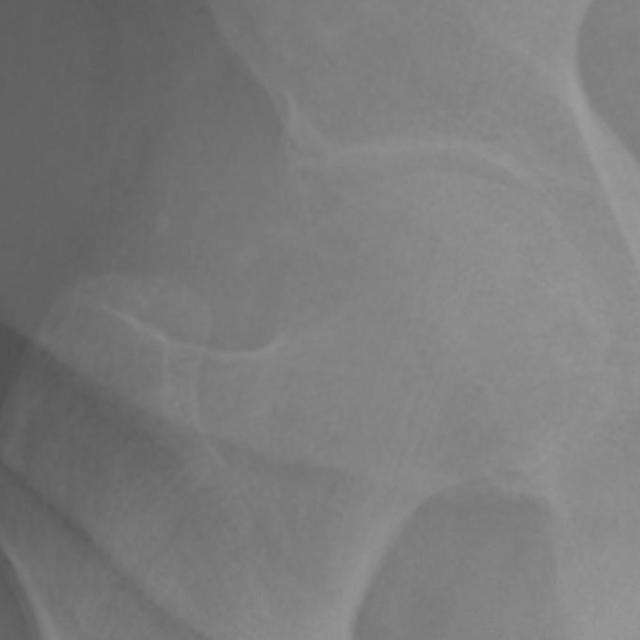Fitted_femural_head: (334, 174, 432, 334)
